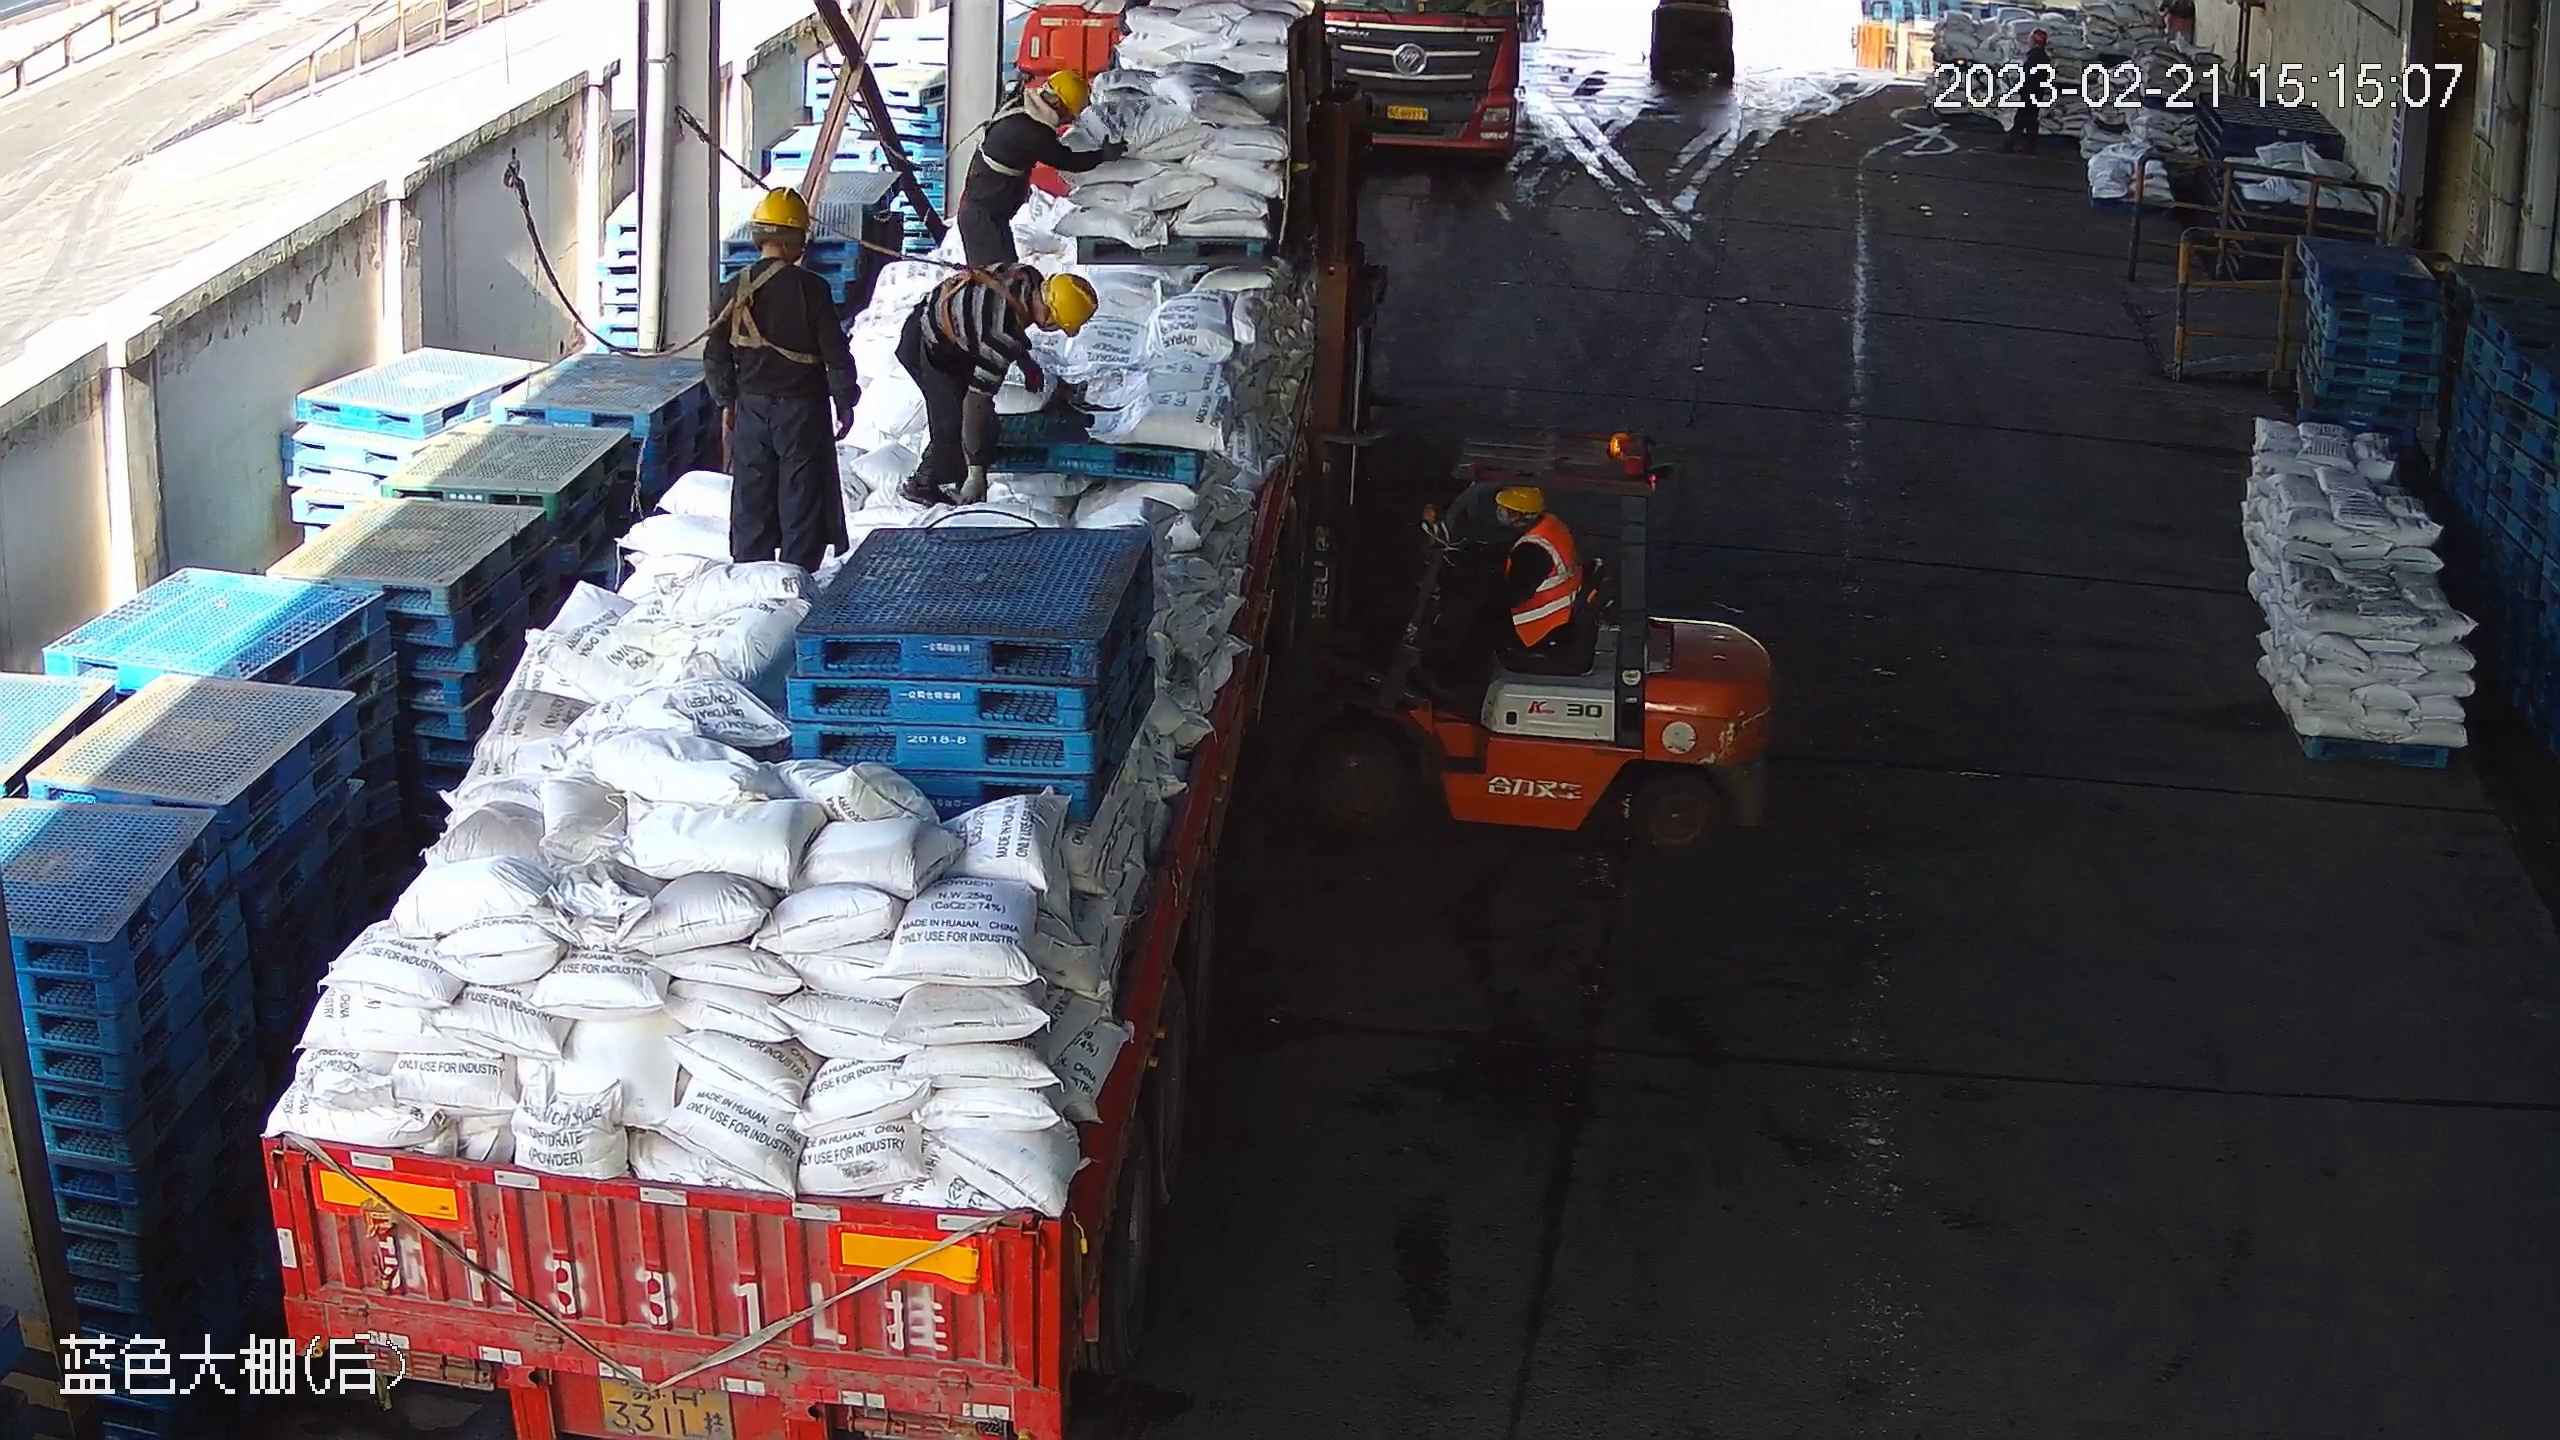belt: (716, 257, 833, 373), (925, 257, 1027, 342), (974, 94, 1068, 182)
head: (712, 188, 840, 329), (966, 257, 1101, 371), (977, 68, 1094, 175), (1483, 479, 1581, 575)
helmet: (1042, 62, 1098, 132), (1042, 270, 1099, 338), (751, 179, 812, 223), (1496, 477, 1549, 514)
people: (702, 177, 862, 586), (905, 253, 1099, 514), (953, 71, 1127, 260), (1451, 481, 1586, 710)
truck: (249, 1, 1314, 1434), (1299, 1, 1538, 181)
